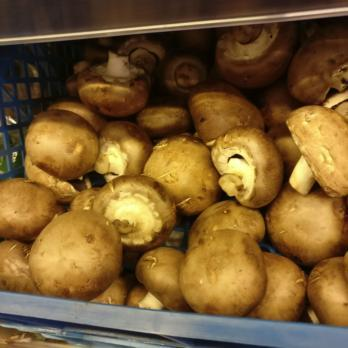Mushroom: (76, 32, 348, 310), (5, 106, 80, 291)
